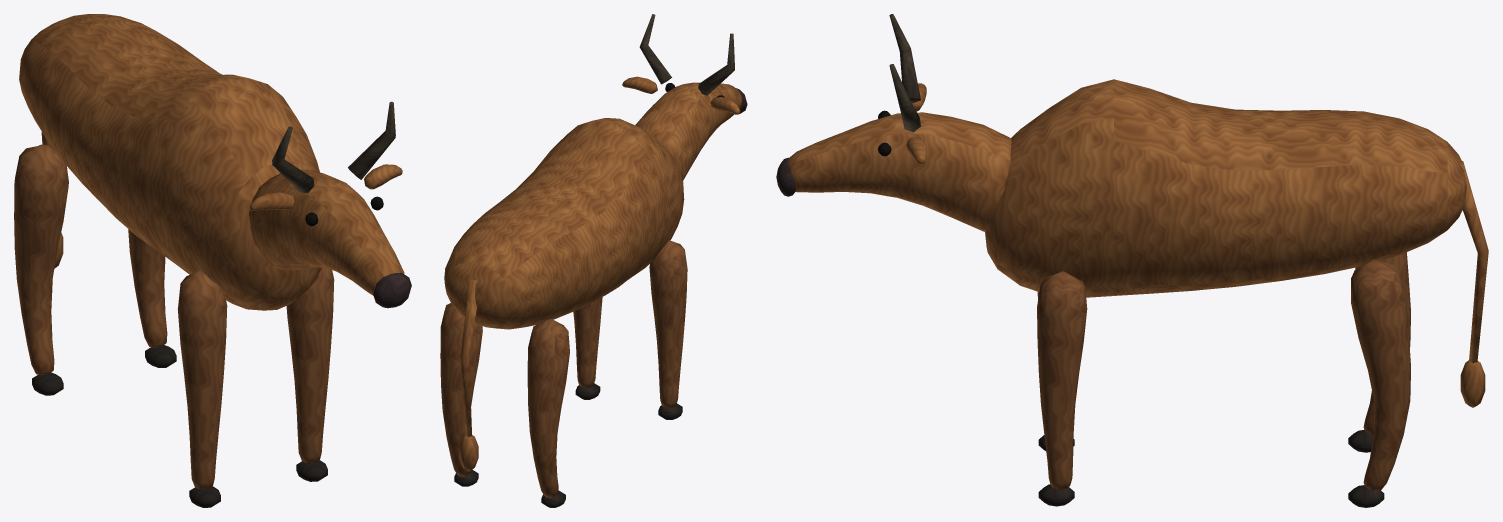
File: animal_kerala_cow.glb
3 renders of one model, left to right at view 1: azimuth 30°, elevation 25°; view 2: azimuth 150°, elevation 25°; view 3: azimuth 270°, elevation 25°, orthographic. The views are drawn at different scales.
Parts seen in each view (by area): view 1: Body, Head, Leg_BL, Leg_FL, Leg_FR, Leg_BR, Horns, Nose, Leg_BL_Foot, Leg_BR_Foot, Leg_FR_Foot, Leg_FL_Foot; view 2: Body, Head, Leg_BL, Leg_FL, Leg_BR, Tail, Leg_FR, Horns; view 3: Body, Head, Leg_BR, Leg_FR, Tail, Horns, Leg_BL.
Boxes of the visible parts, bbox=[...] form: Body: bbox=[19, 14, 321, 310]; Head: bbox=[249, 164, 404, 295]; Leg_BL: bbox=[14, 144, 68, 375]; Leg_FL: bbox=[177, 270, 227, 489]; Leg_FR: bbox=[286, 268, 334, 463]; Leg_BR: bbox=[128, 229, 167, 347]; Horns: bbox=[272, 101, 395, 193]; Nose: bbox=[373, 272, 411, 308]; Leg_BL_Foot: bbox=[32, 372, 63, 395]; Leg_BR_Foot: bbox=[145, 345, 176, 367]; Leg_FR_Foot: bbox=[296, 460, 327, 481]; Leg_FL_Foot: bbox=[189, 486, 220, 507]; Body: bbox=[444, 118, 684, 329]; Head: bbox=[622, 76, 741, 180]; Leg_BL: bbox=[527, 318, 569, 498]; Leg_FL: bbox=[649, 240, 687, 408]; Leg_BR: bbox=[440, 303, 482, 476]; Tail: bbox=[459, 279, 478, 471]; Leg_FR: bbox=[573, 297, 602, 387]; Horns: bbox=[639, 14, 734, 95]; Body: bbox=[985, 79, 1466, 297]; Head: bbox=[787, 83, 1011, 231]; Leg_BR: bbox=[1351, 259, 1410, 491]; Leg_FR: bbox=[1037, 271, 1087, 489]; Tail: bbox=[1460, 161, 1488, 407]; Horns: bbox=[889, 14, 920, 132]; Leg_BL: bbox=[1355, 252, 1410, 435].
Bounding box in the file's own units: 0.5416 × 1.41 × 2.07.
Materials: 6 (6 with a texture image).
